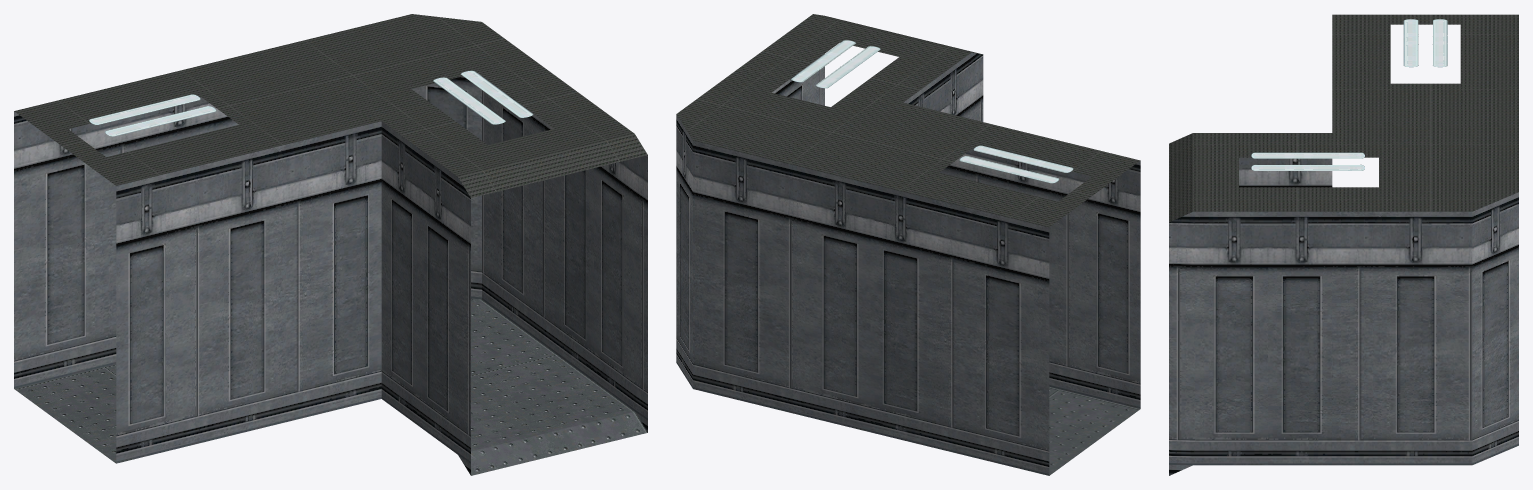
The model's file is mun_all_military_storage_shed_impl_s01_r1_entry_mesh_entry.fbx.
The picture shows the model from 3 angles, left to right: view 1: azimuth 30°, elevation 25°; view 2: azimuth 150°, elevation 25°; view 3: azimuth 270°, elevation 25°; orthographic projection. The views are drawn at different scales.
Parts seen in each view (by area): view 1: mesh_node; view 2: mesh_node; view 3: mesh_node.
Part boxes in pixels (x1,y1,x2,y2): mesh_node: (14,14,647,475); mesh_node: (676,14,1140,475); mesh_node: (1169,14,1518,475).
Size of the model in its own units: 5 by 3.25 by 3.75.
